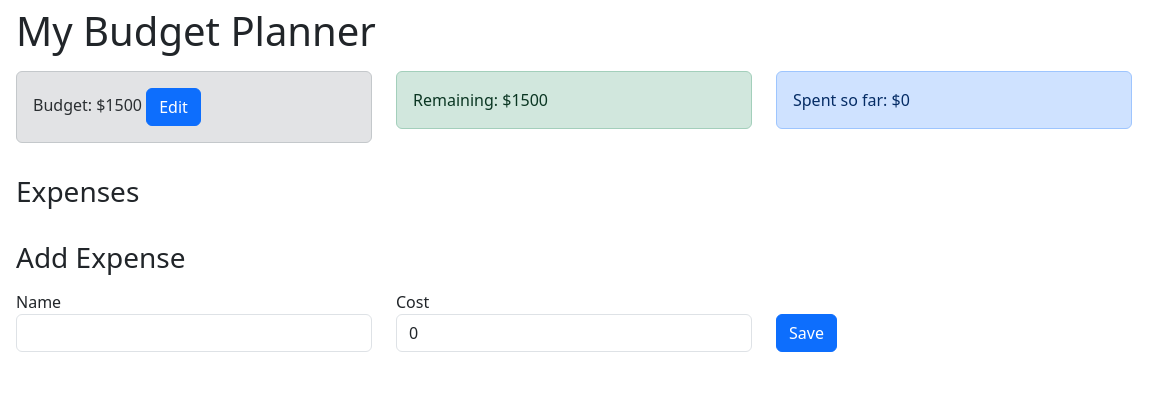
Test case: Create an Expense
The width and height of the screenshot is (1149, 417).
Type "Testing" into the field labelled "Name". click: (194, 333)
box: [16,314,372,352]
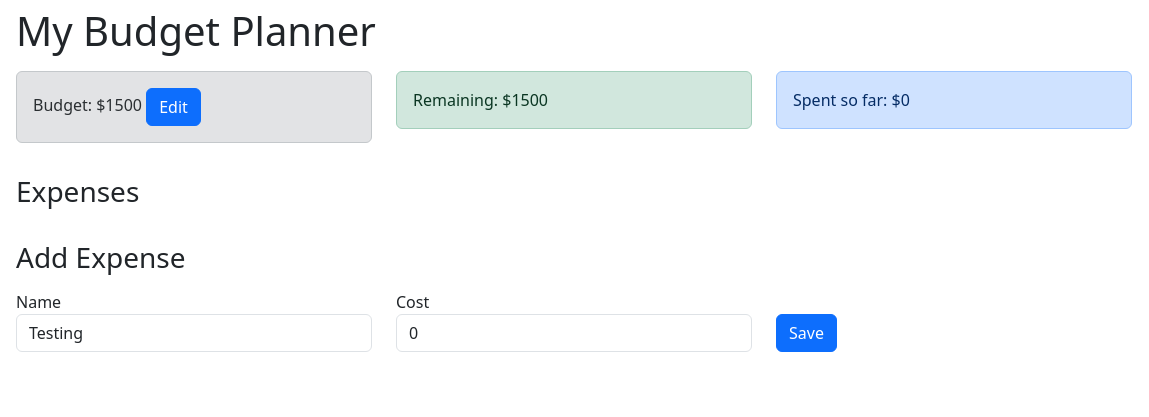
Replace the text in the field labelled "Cost" with "100". click: (574, 333)
box: [396,314,752,352]
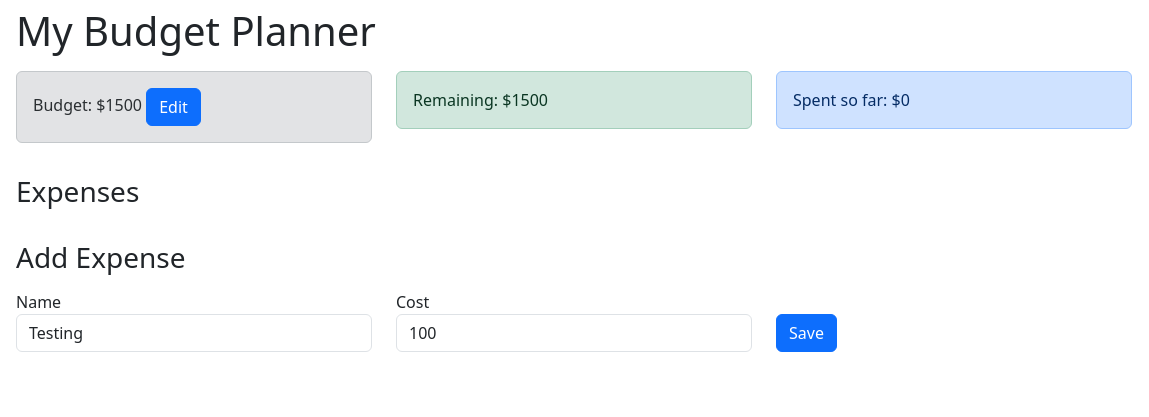
Click the button "Save". click: (806, 333)
box: [776,314,837,352]
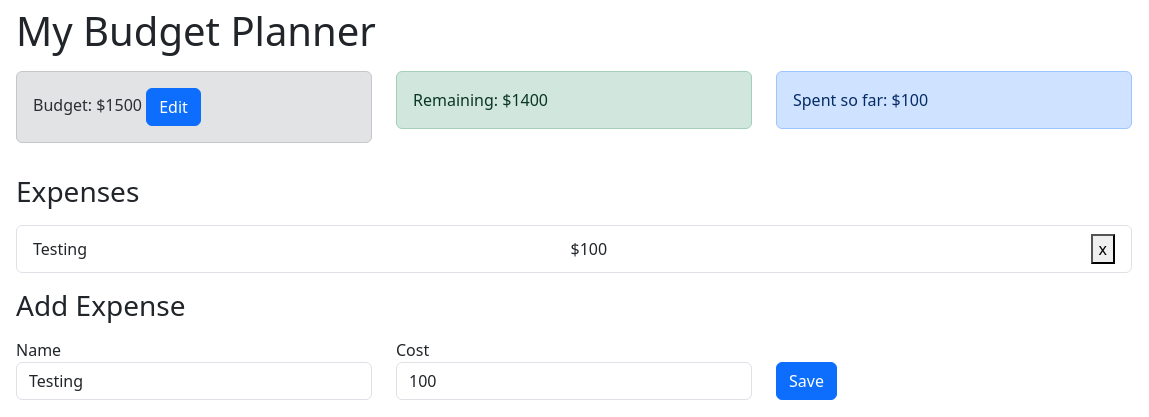
Expected: the text "Testing" is shown, [33,237,87,261]
Expected: the text "$100" is shown, [570,237,607,261]
Expected: the text "Remaining: $1400" is shown, [413,89,548,111]
